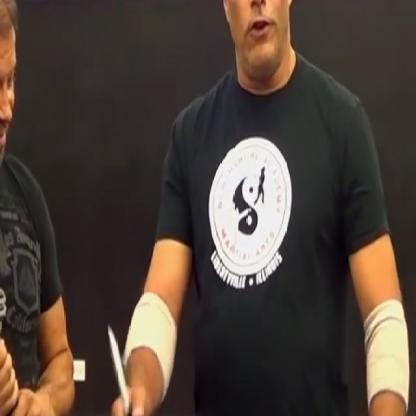knife: (101, 313, 154, 415)
